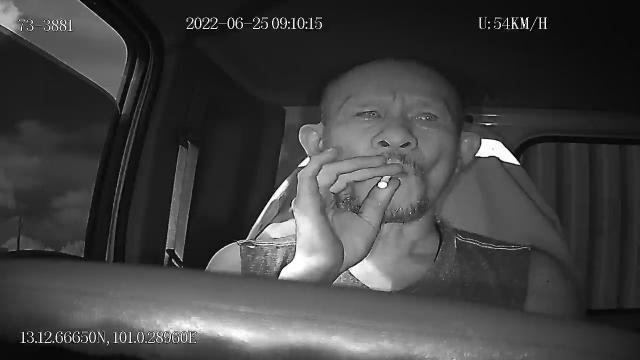SafeDriving: (404, 103, 444, 130), (348, 101, 386, 125)
Smoking: (377, 172, 393, 190)
